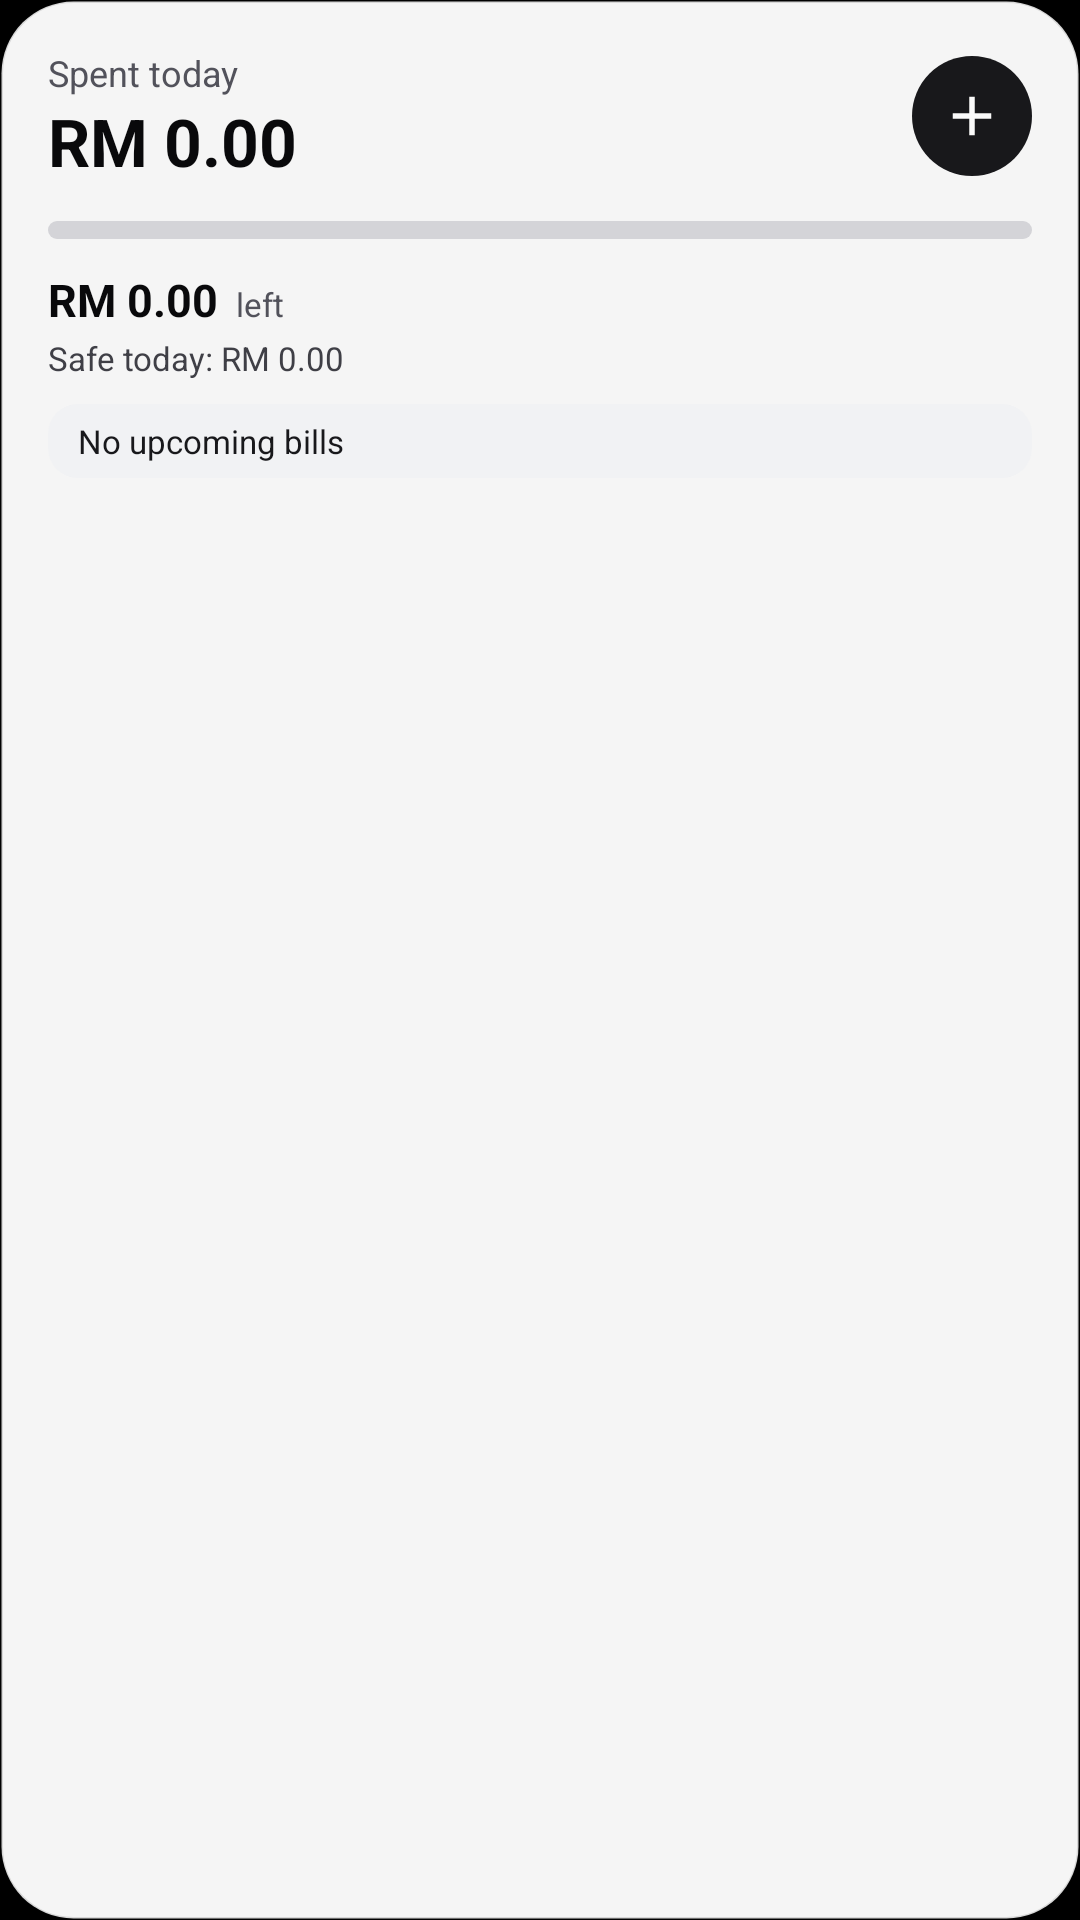

Icon click points for this 1080×1920 phone screenshot, format (x=x, y=y):
Add expense: (x=972, y=116)
